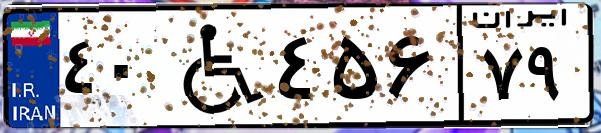0: (110, 28, 158, 98)
4: (270, 28, 330, 110), (57, 26, 110, 100)
5: (330, 28, 385, 110)
6: (385, 28, 445, 110)
7: (475, 38, 525, 113)
9: (525, 38, 570, 115)
ژ (معلولین و جانبازان): (158, 12, 270, 120)
